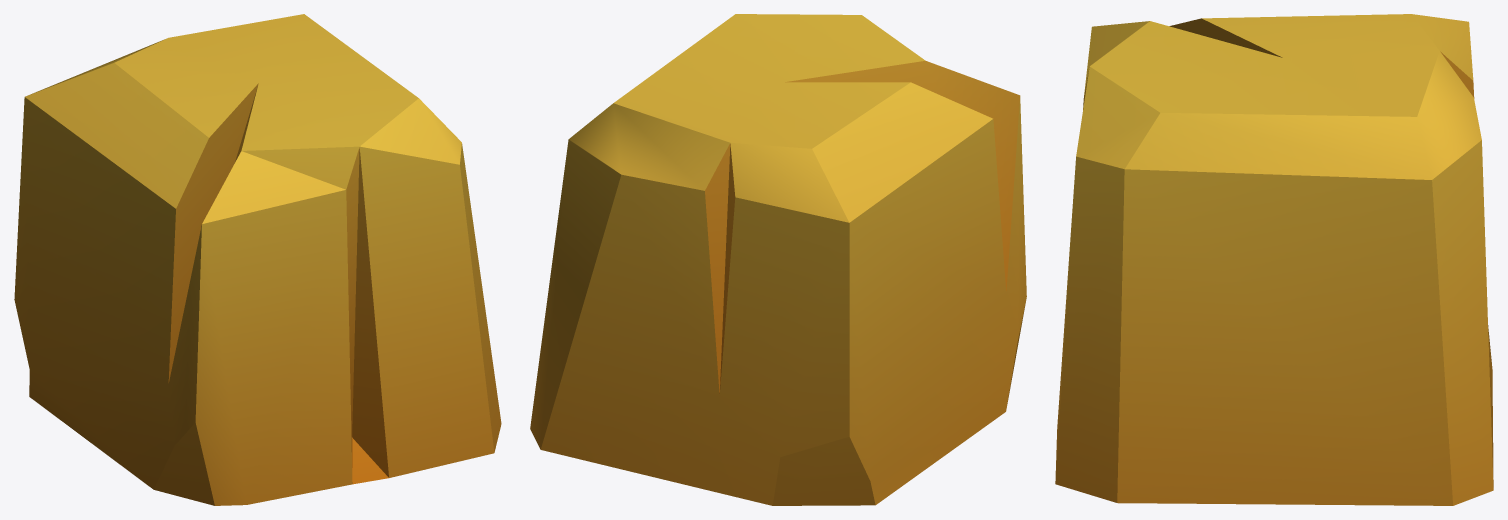
File: rock_yellow.fbx
The picture shows the model from 3 angles, left to right: view 1: azimuth 30°, elevation 25°; view 2: azimuth 150°, elevation 25°; view 3: azimuth 270°, elevation 25°; orthographic projection. The views are drawn at different scales.
Parts seen in each view (by area): view 1: rock_yellow; view 2: rock_yellow; view 3: rock_yellow.
Part boxes in pixels (bbox=[...]): rock_yellow: bbox=[14, 14, 501, 505]; rock_yellow: bbox=[530, 14, 1026, 505]; rock_yellow: bbox=[1055, 14, 1493, 505].
Size of the model in its own units: 16.92 by 15.83 by 17.61.
